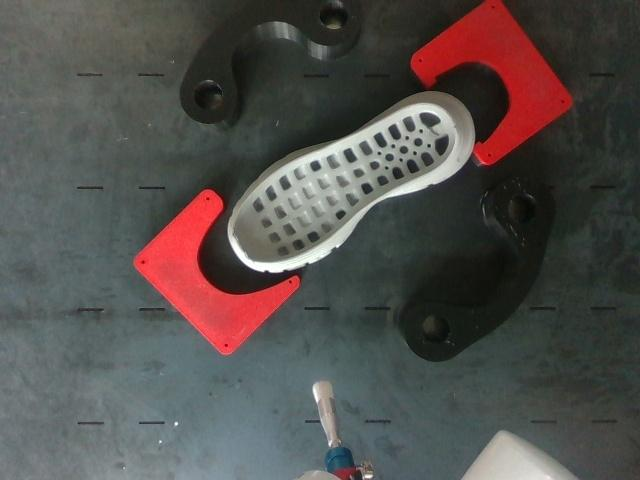shoes: (234, 105, 456, 263)
